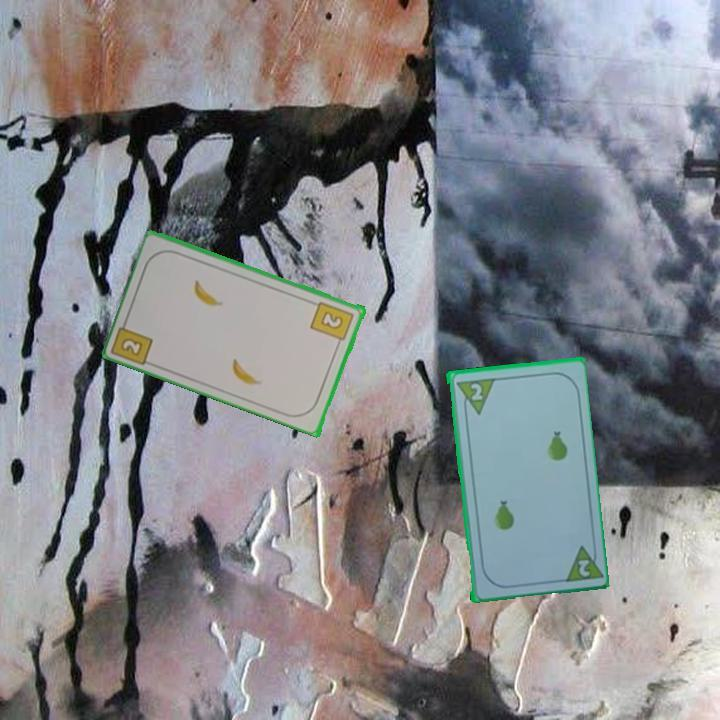2b: (308, 298, 357, 349), (117, 334, 146, 359)
2p: (559, 539, 603, 584), (466, 379, 485, 403)
